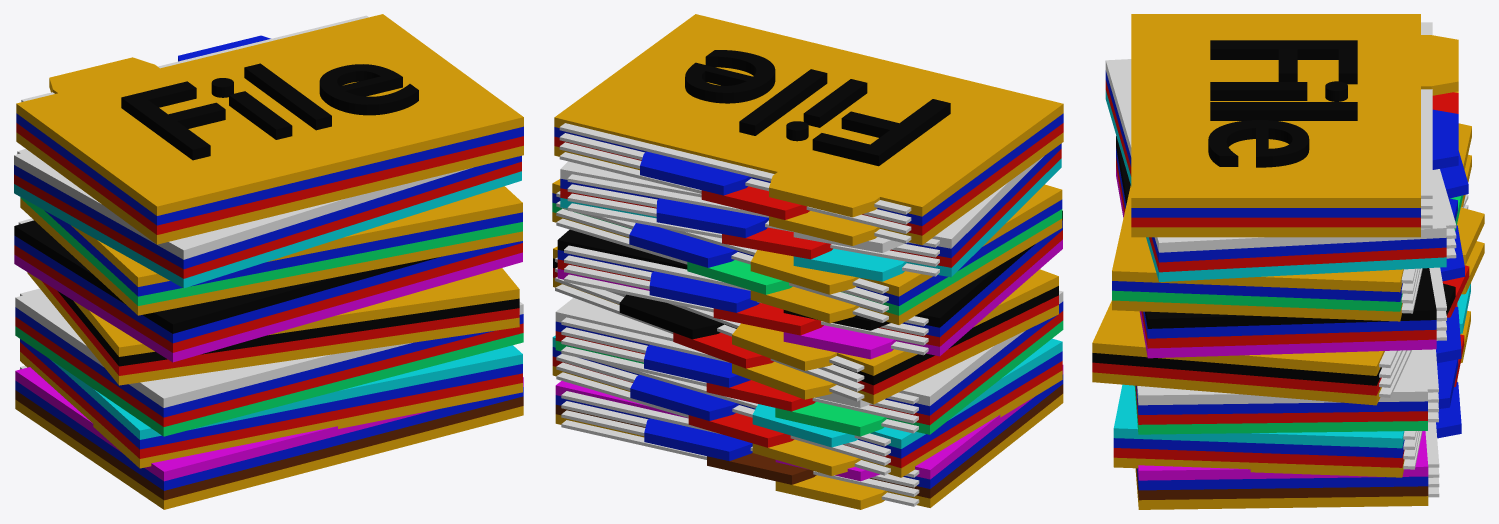
Rendered from Filestack.fbx.
3 renders of one model, left to right at view 1: azimuth 30°, elevation 25°; view 2: azimuth 150°, elevation 25°; view 3: azimuth 270°, elevation 25°, orthographic. The views are drawn at different scales.
Parts seen in each view (by area): view 1: Plane.005; view 2: Plane.005; view 3: Plane.005.
Part boxes in pixels (x1,y1,x2,y2): Plane.005: (14,14,523,509); Plane.005: (552,14,1063,509); Plane.005: (1092,14,1484,509).
Size of the model in its own units: 54.83 by 40.25 by 44.57.
